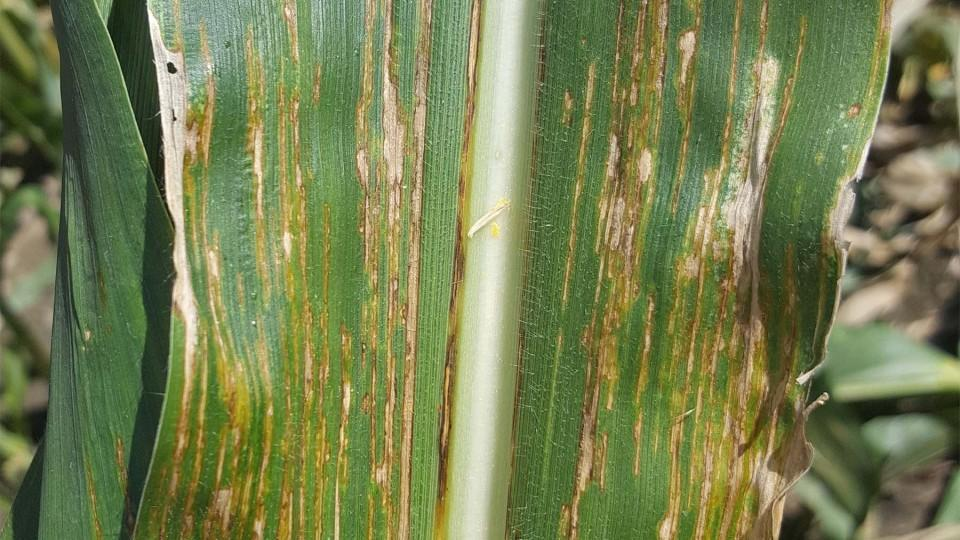Corn_Blight: (125, 8, 344, 535), (578, 11, 710, 536), (351, 8, 466, 536), (718, 22, 824, 529), (837, 105, 888, 317)
